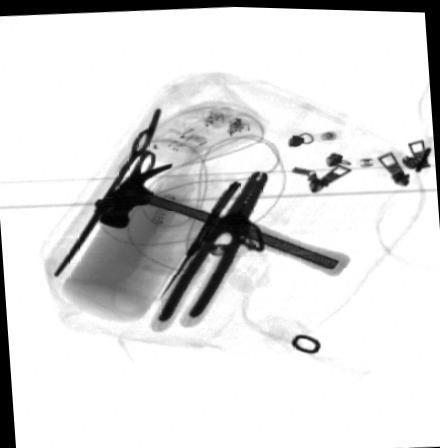Hammer: (93, 159, 353, 273)
Knife: (156, 177, 241, 297)
Pliers: (150, 166, 269, 324)
Scissors: (52, 106, 162, 276)
